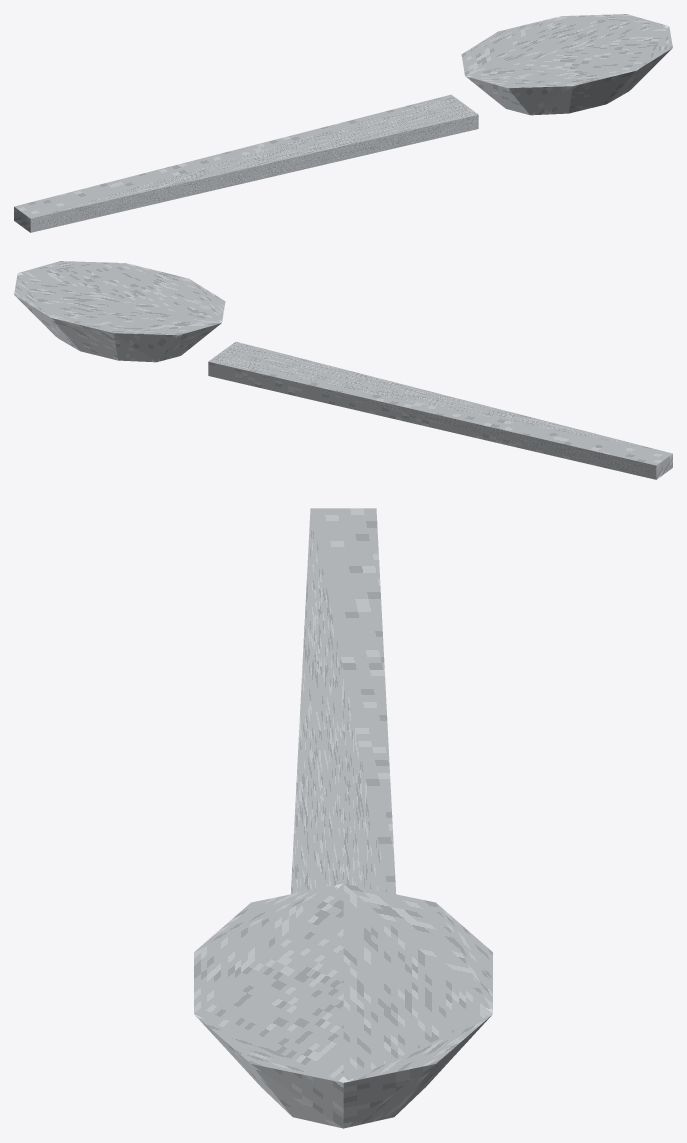
File: spoon.glb
3 renders of one model, top to bottom at view 1: azimuth 30°, elevation 25°; view 2: azimuth 150°, elevation 25°; view 3: azimuth 270°, elevation 25°, orthographic. The views are drawn at different scales.
Visible parts, largest first — view 1: block_handle, block_bowl; view 2: block_handle, block_bowl; view 3: block_bowl, block_handle.
Boxes of the visible parts, x1,y1,x2,y2 form: block_handle: (14,94,478,232); block_bowl: (461,14,672,115); block_handle: (208,341,672,479); block_bowl: (14,261,225,362); block_bowl: (194,883,492,1128); block_handle: (291,508,395,894).
Bounding box in the file's own units: 0.19 × 0.012 × 0.038.
Materials: 1 (1 with a texture image).
